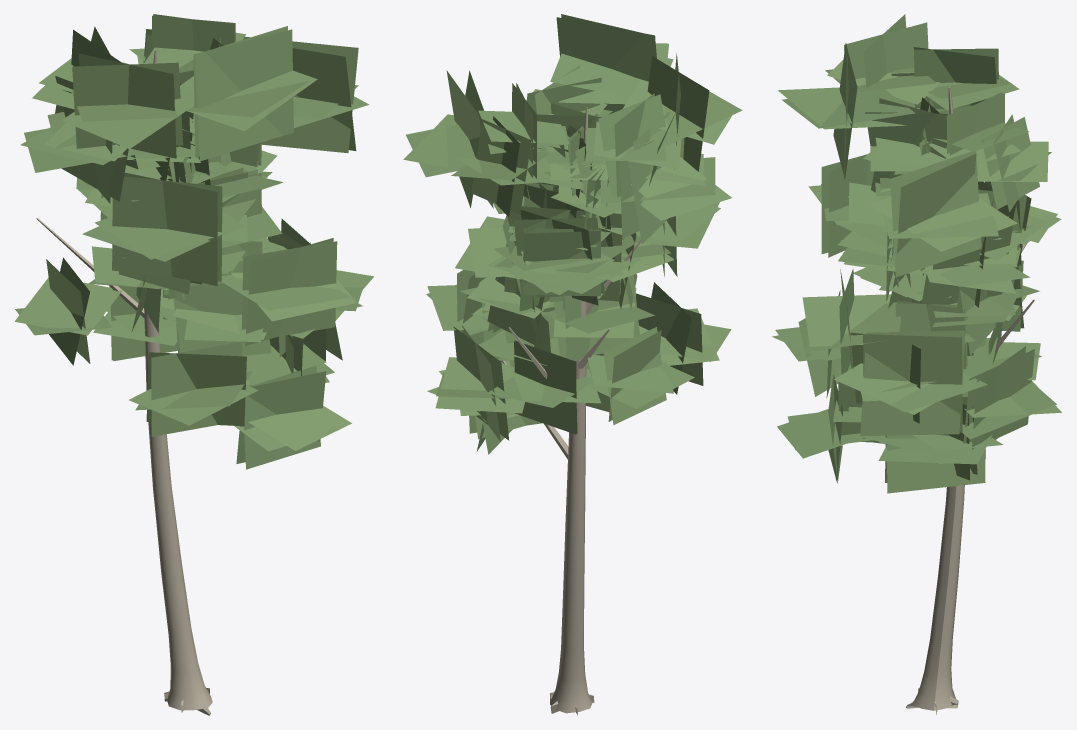
File: tree_birch.glb
The picture shows the model from 3 angles, left to right: view 1: azimuth 30°, elevation 25°; view 2: azimuth 150°, elevation 25°; view 3: azimuth 270°, elevation 25°; orthographic projection. The views are drawn at different scales.
Visible parts, largest first — view 1: Tree_birch; view 2: Tree_birch; view 3: Tree_birch.
Boxes of the visible parts, left/top/right/bottom form: Tree_birch: left=15, top=14, right=374, bottom=715; Tree_birch: left=403, top=14, right=742, bottom=715; Tree_birch: left=772, top=14, right=1061, bottom=714.
Bounding box in the file's own units: 5.2 × 10.28 × 4.2.
